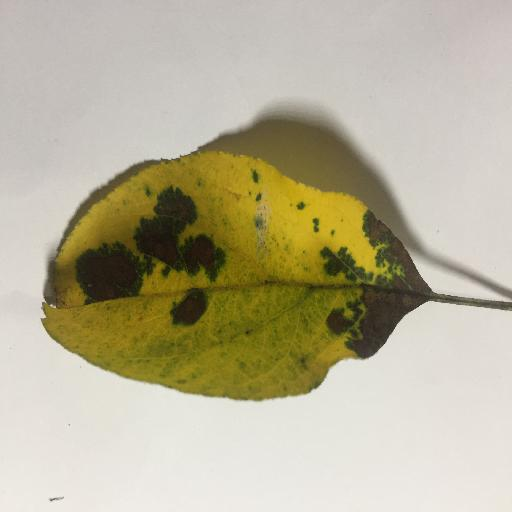Brown_Spot: (73, 200, 232, 334), (334, 202, 428, 361)
